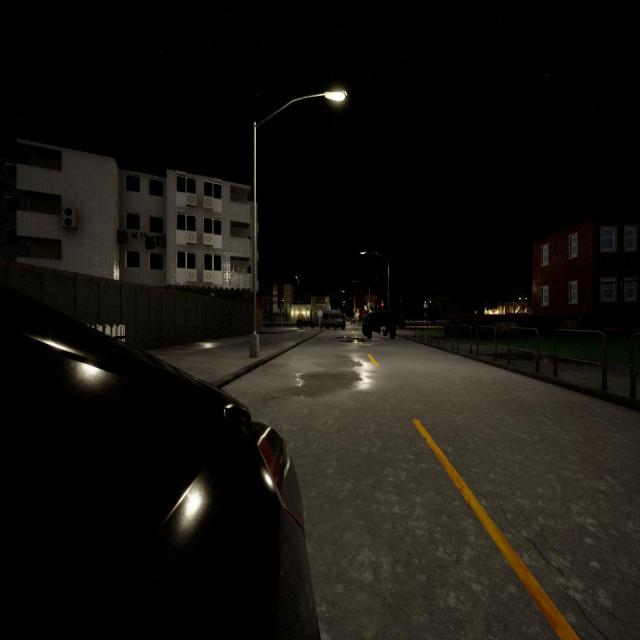Pedestrian: (341, 312, 346, 331)
Traffic_Signs: (317, 310, 323, 318)
Vehicle: (0, 285, 319, 638), (362, 308, 398, 339), (320, 310, 347, 330), (296, 317, 317, 328), (350, 319, 356, 325)
traffic_light: (381, 301, 384, 307)
